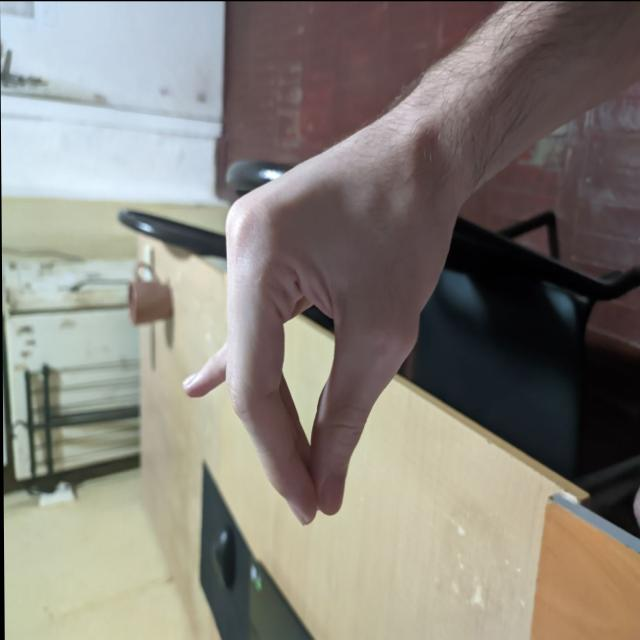iu: (179, 103, 461, 525)
